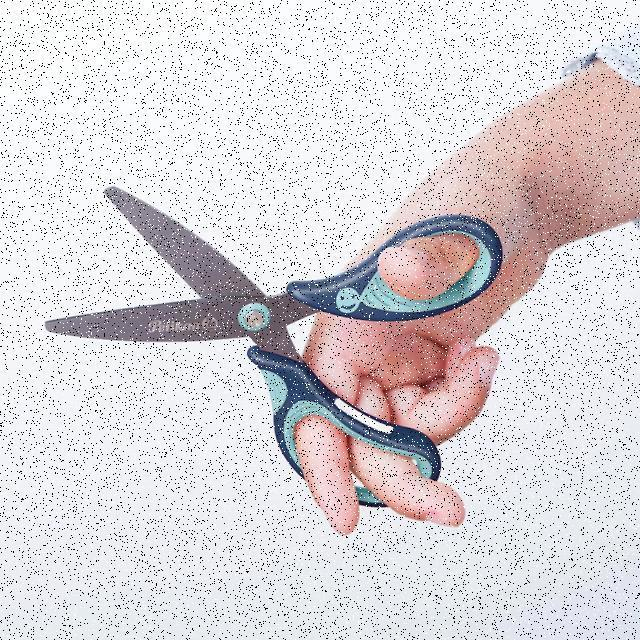scissors: (44, 180, 506, 512)
